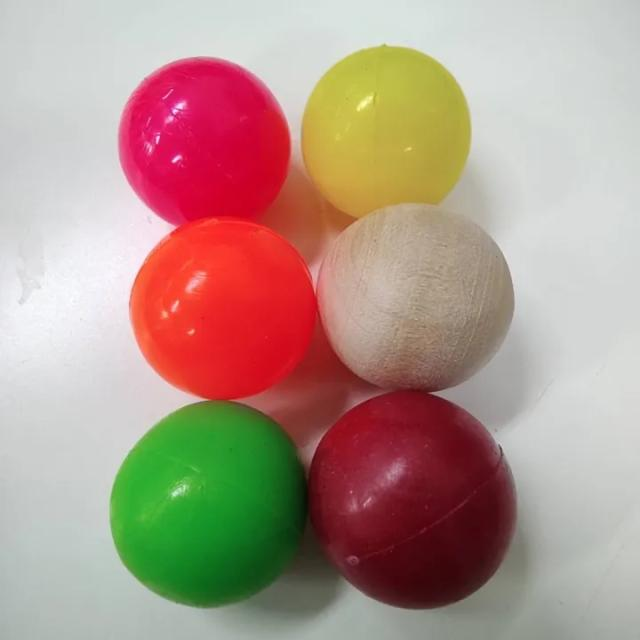hatball: (307, 388, 531, 615), (99, 398, 309, 615), (312, 200, 522, 393), (128, 216, 320, 400), (299, 41, 478, 220), (111, 57, 297, 229)
